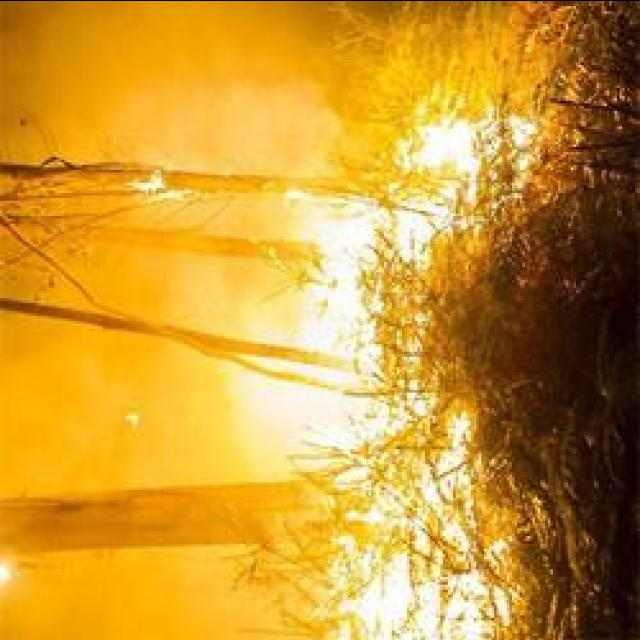fire: (265, 391, 349, 429), (362, 575, 410, 628), (298, 290, 344, 338), (326, 212, 380, 248), (422, 127, 472, 163)
smoke: (310, 0, 542, 108), (180, 80, 340, 160)
